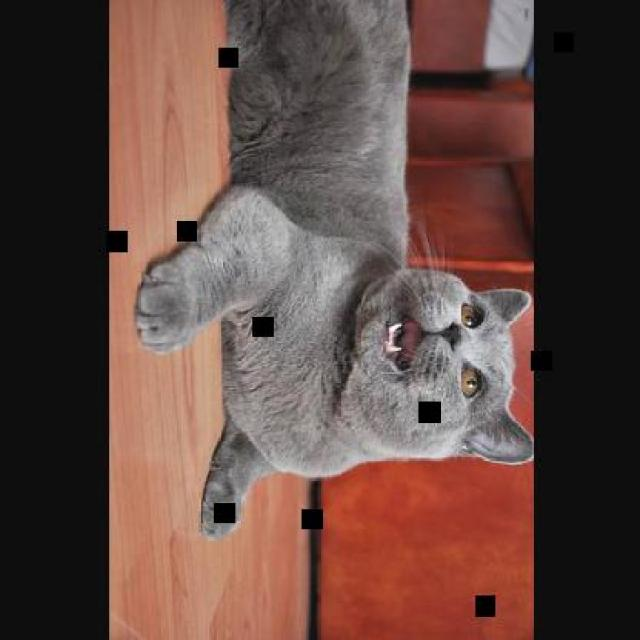unauthorized: (132, 0, 532, 540)
